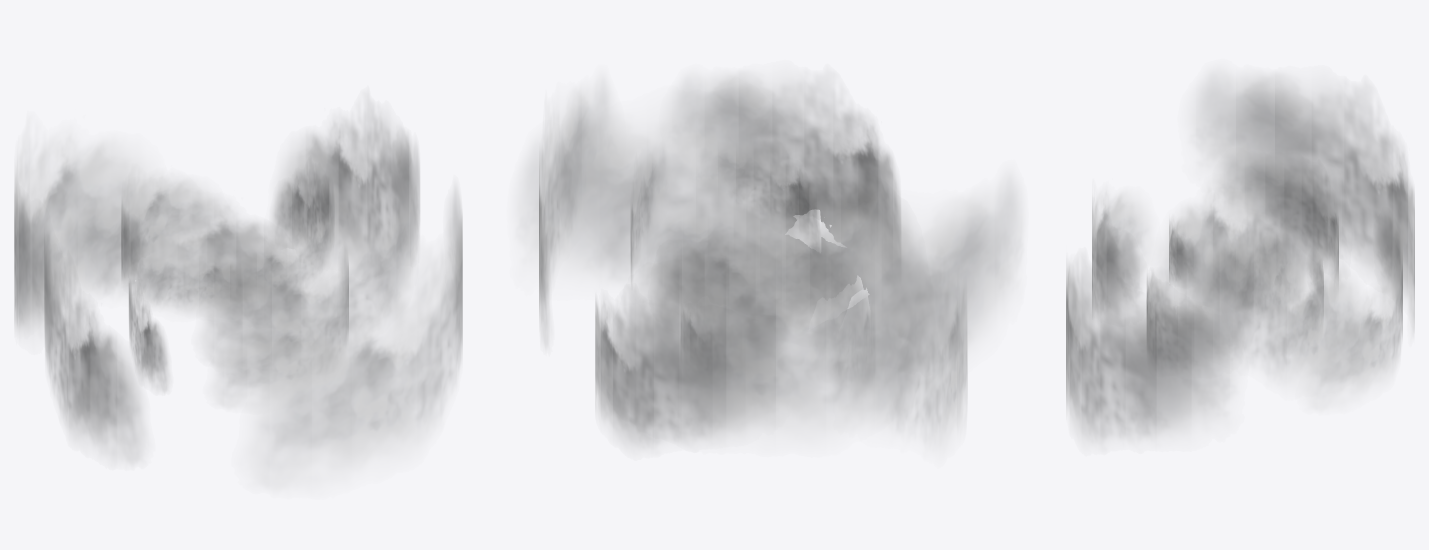
File: wind.glb
3 renders of one model, left to right at view 1: azimuth 30°, elevation 25°; view 2: azimuth 150°, elevation 25°; view 3: azimuth 270°, elevation 25°, orthographic. The views are drawn at different scales.
Visible parts, largest first — view 1: Cylinder; view 2: Cylinder; view 3: Cylinder.
Part boxes in pixels (left/top/right/bottom): Cylinder: left=14, top=108, right=462, bottom=489; Cylinder: left=516, top=72, right=1022, bottom=448; Cylinder: left=1066, top=71, right=1414, bottom=440.
Bounding box in the file's own units: 0.7919 × 0.6584 × 0.6224.
Materials: 1 (1 with a texture image).
